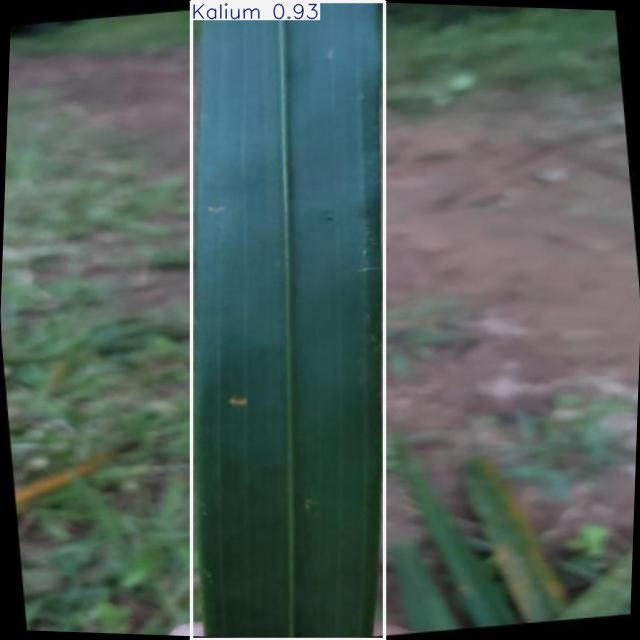Kalium: (192, 1, 384, 639)
